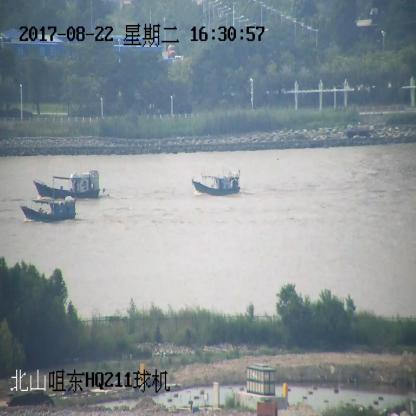Fishing Boat: (33, 173, 101, 198), (22, 196, 78, 221), (193, 170, 241, 194)
